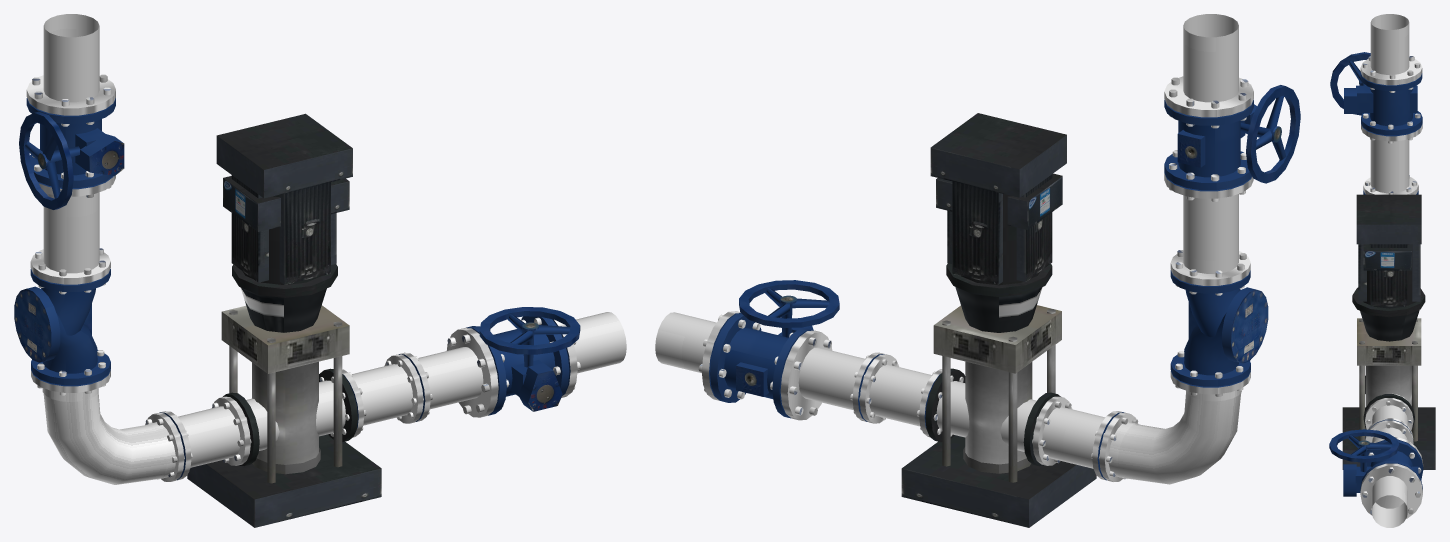
Rendered from 水泵单组.obj.
The picture shows the model from 3 angles, left to right: view 1: azimuth 30°, elevation 25°; view 2: azimuth 150°, elevation 25°; view 3: azimuth 270°, elevation 25°; orthographic projection. The views are drawn at different scales.
Parts seen in each view (by area): view 1: Cylinder201, Box022, Cylinder281, Box015, Cylinder002, Box018, Cylinder164, Box016, Cylinder280, object 6, Box020, Box021 (+24 smaller); view 2: Cylinder201, Box022, Cylinder281, Box015, Cylinder002, Box018, Box016, Cylinder164, Cylinder280, object 6, Box020, Box021 (+27 smaller); view 3: Cylinder281, Box015, Cylinder201, Box018, Box022, Cylinder282, Box021, Cylinder164, Cylinder242, object 6, Box020, Donut004 (+23 smaller).
Part boxes in pixels (left/top/right/bottom): Cylinder201: left=178, top=312, right=626, bottom=467; Box022: left=187, top=434, right=381, bottom=527; Cylinder281: left=43, top=14, right=99, bottom=273; Box015: left=216, top=113, right=352, bottom=198; Cylinder002: left=43, top=392, right=166, bottom=484; Box018: left=221, top=305, right=349, bottom=373; Cylinder164: left=252, top=361, right=318, bottom=464; Box016: left=279, top=182, right=330, bottom=284; Cylinder280: left=14, top=286, right=60, bottom=362; object 6: left=241, top=287, right=326, bottom=332; Box020: left=223, top=176, right=349, bottom=231; Box021: left=231, top=175, right=336, bottom=282; Cylinder201: left=655, top=312, right=1105, bottom=468; Box022: left=901, top=435, right=1096, bottom=527; Cylinder281: left=1183, top=14, right=1238, bottom=273; Box015: left=930, top=113, right=1066, bottom=197; Cylinder002: left=1118, top=392, right=1241, bottom=484; Box018: left=933, top=305, right=1061, bottom=373; Box016: left=952, top=181, right=1002, bottom=284; Cylinder164: left=965, top=361, right=1032, bottom=464; Cylinder280: left=1222, top=287, right=1268, bottom=363; object 6: left=955, top=287, right=1042, bottom=332; Box020: left=936, top=173, right=1062, bottom=229; Box021: left=947, top=174, right=1052, bottom=281; Cylinder281: left=1370, top=14, right=1409, bottom=193; Box015: left=1356, top=194, right=1421, bottom=244; Cylinder201: left=1371, top=393, right=1407, bottom=527; Box018: left=1357, top=318, right=1421, bottom=365; Box022: left=1342, top=407, right=1435, bottom=469; Cylinder282: left=1360, top=463, right=1422, bottom=518; Box021: left=1370, top=244, right=1407, bottom=306; Cylinder164: left=1365, top=365, right=1411, bottom=407; Cylinder242: left=1370, top=87, right=1412, bottom=126; object 6: left=1360, top=310, right=1419, bottom=341; Box020: left=1363, top=244, right=1411, bottom=270; Donut004: left=1329, top=429, right=1399, bottom=462.
Size of the model in its own units: 261 by 217 by 59.12.
